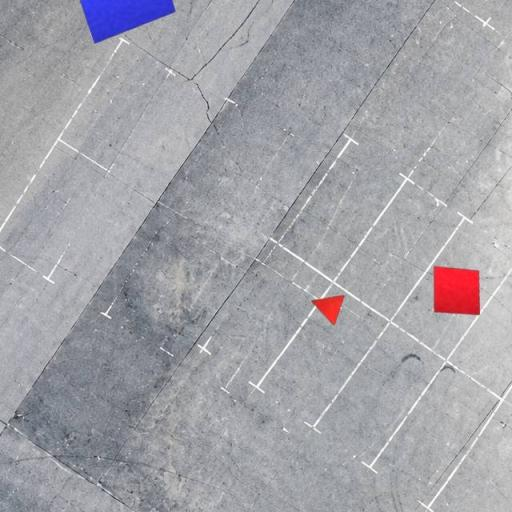BLUE_SQUARE: (66, 0, 176, 44)
RED_SQUARE: (433, 266, 481, 316)
